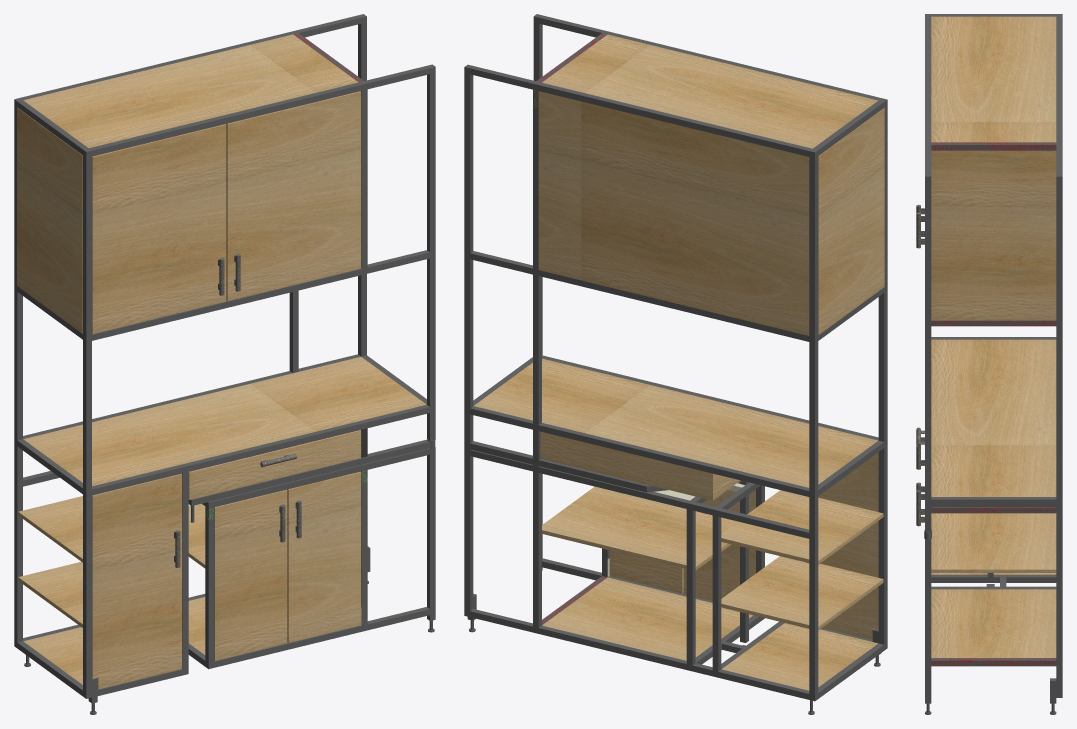
Rendered from Saitta_Standing_Desk.dae.
3 renders of one model, left to right at view 1: azimuth 30°, elevation 25°; view 2: azimuth 150°, elevation 25°; view 3: azimuth 270°, elevation 25°, orthographic. The views are drawn at different scales.
Visible parts, largest first — view 1: Top-Right_Cab_Door, Top-Left_Cab_Door, Horiz_Panel__c_, Bottom_Single_Cabinet_Door, Horiz_Panel__a_, Vert_Panel__a_, Bottom_Double_Cabinet_Door_Right, Bottom_Double_Cabinet_Door_Left, _59.5__Tube (×4), _21__Tube (×6), _25__Tube (×5), Drawer (+11 smaller); view 2: Vert_Panel__b_, Horiz_Panel__c_, Horiz_Panel__a_, Vert_Panel__a_, _59.5__Tube (×4), Horiz_Panel__f_, Shelf__d_, _21__Tube (×6), _47.5__Tube (×3), Shelf__c_, Shelf__b_, _25__Tube (×4) (+9 smaller); view 3: Vert_Panel__c_, Horiz_Panel__c_, Horiz_Panel__a_, Horiz_Panel__f_, Shelf__d_, _20__Tube (×9), _59.5__Tube (×2), _25__Tube (×2), _24__Tube (×2), _21__Tube (×2), _10__Tube, Desk_Top.
Part boxes in pixels (x1,y1,x2,y2): Top-Right_Cab_Door: (226,91,361,300); Top-Left_Cab_Door: (92,124,226,333); Horiz_Panel__c_: (23,357,426,486); Bottom_Single_Cabinet_Door: (92,473,182,689); Horiz_Panel__a_: (23,34,358,147); Vert_Panel__a_: (17,107,82,333); Bottom_Double_Cabinet_Door_Right: (287,471,361,642); Bottom_Double_Cabinet_Door_Left: (214,489,287,660); _59.5__Tube (×4): (20,15,429,495); _21__Tube (×6): (14,464,435,674); _25__Tube (×5): (14,257,435,490); Drawer: (188,430,361,499); Vert_Panel__b_: (538,91,809,335); Horiz_Panel__c_: (474,358,877,487); Horiz_Panel__a_: (542,34,878,148); Vert_Panel__a_: (818,108,884,334); _59.5__Tube (×4): (470,15,881,699); Horiz_Panel__f_: (542,577,752,660); Shelf__d_: (542,486,737,570); _21__Tube (×6): (464,466,887,677); _47.5__Tube (×3): (538,270,809,538); Shelf__c_: (721,556,883,629); Shelf__b_: (721,490,883,564); _25__Tube (×4): (464,258,887,492); Vert_Panel__c_: (931,150,1056,320); Horiz_Panel__c_: (931,339,1056,496); Horiz_Panel__a_: (931,16,1056,142); Horiz_Panel__f_: (931,589,1056,657); Shelf__d_: (931,513,1056,572); _20__Tube (×9): (931,14,1056,666); _59.5__Tube (×2): (925,16,1062,173); _25__Tube (×2): (925,358,1062,499); _24__Tube (×2): (925,199,1062,335); _21__Tube (×2): (925,556,1062,675); _10__Tube: (1056,499,1062,556); Desk_Top: (931,505,1056,581).
Bounding box in the file's own units: 61.7 × 23.38 × 95.
8 materials, 2 textured.
